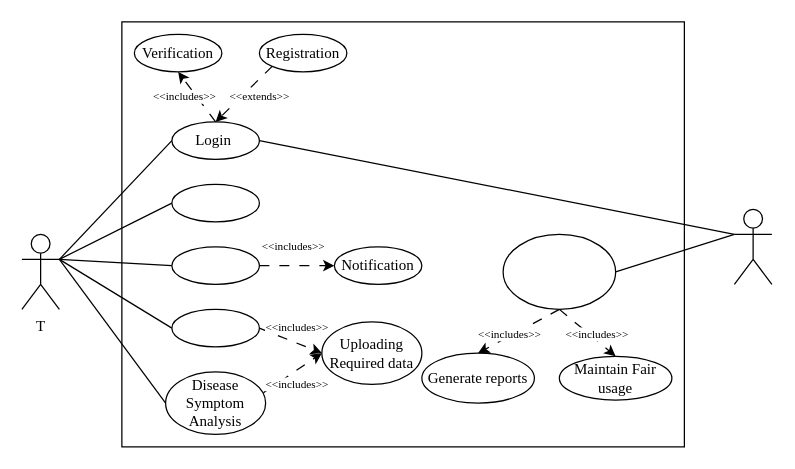
Image size: 795x469. Some labels were removed from this diagram. The shapes that lost their labels are listed below. From the top down, each one's centre as x and y in pixels, then its label:
pixel 215 202: Training Aid
pixel 215 265: Schedules
pixel 752 246: Admin
pixel 559 271: Monitor System Overview
pixel 215 327: Breed detection
